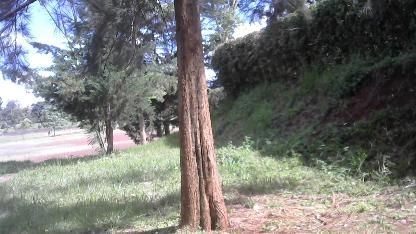tree: (38, 0, 169, 156), (168, 0, 237, 233)
